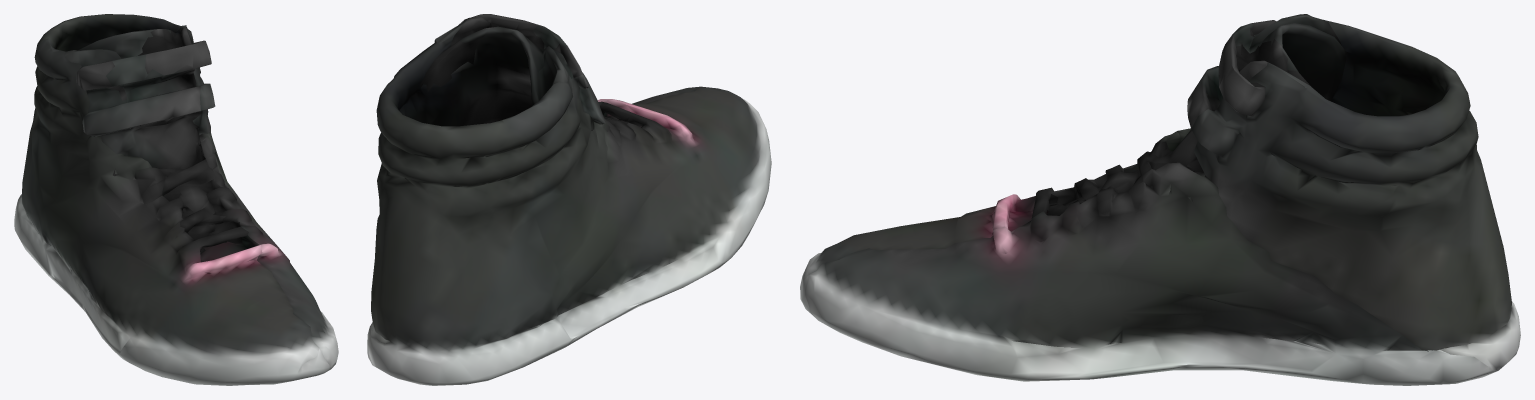
The model's file is Reebok_FS_HI_MINI-medium.glb.
The picture shows the model from 3 angles, left to right: view 1: azimuth 30°, elevation 25°; view 2: azimuth 150°, elevation 25°; view 3: azimuth 270°, elevation 25°; orthographic projection. The views are drawn at different scales.
Visible parts, largest first — view 1: Reebok_FS_HI_MINI; view 2: Reebok_FS_HI_MINI; view 3: Reebok_FS_HI_MINI.
Boxes of the visible parts, left/top/right/bottom form: Reebok_FS_HI_MINI: left=14, top=14, right=338, bottom=385; Reebok_FS_HI_MINI: left=367, top=14, right=771, bottom=385; Reebok_FS_HI_MINI: left=800, top=14, right=1520, bottom=385.
Size of the model in its own units: 0.0968 by 0.1284 by 0.2595.
1 material, 1 textured.
